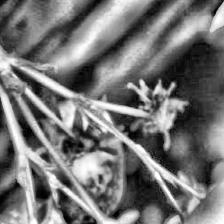Gray Mold: (128, 78, 190, 150)
